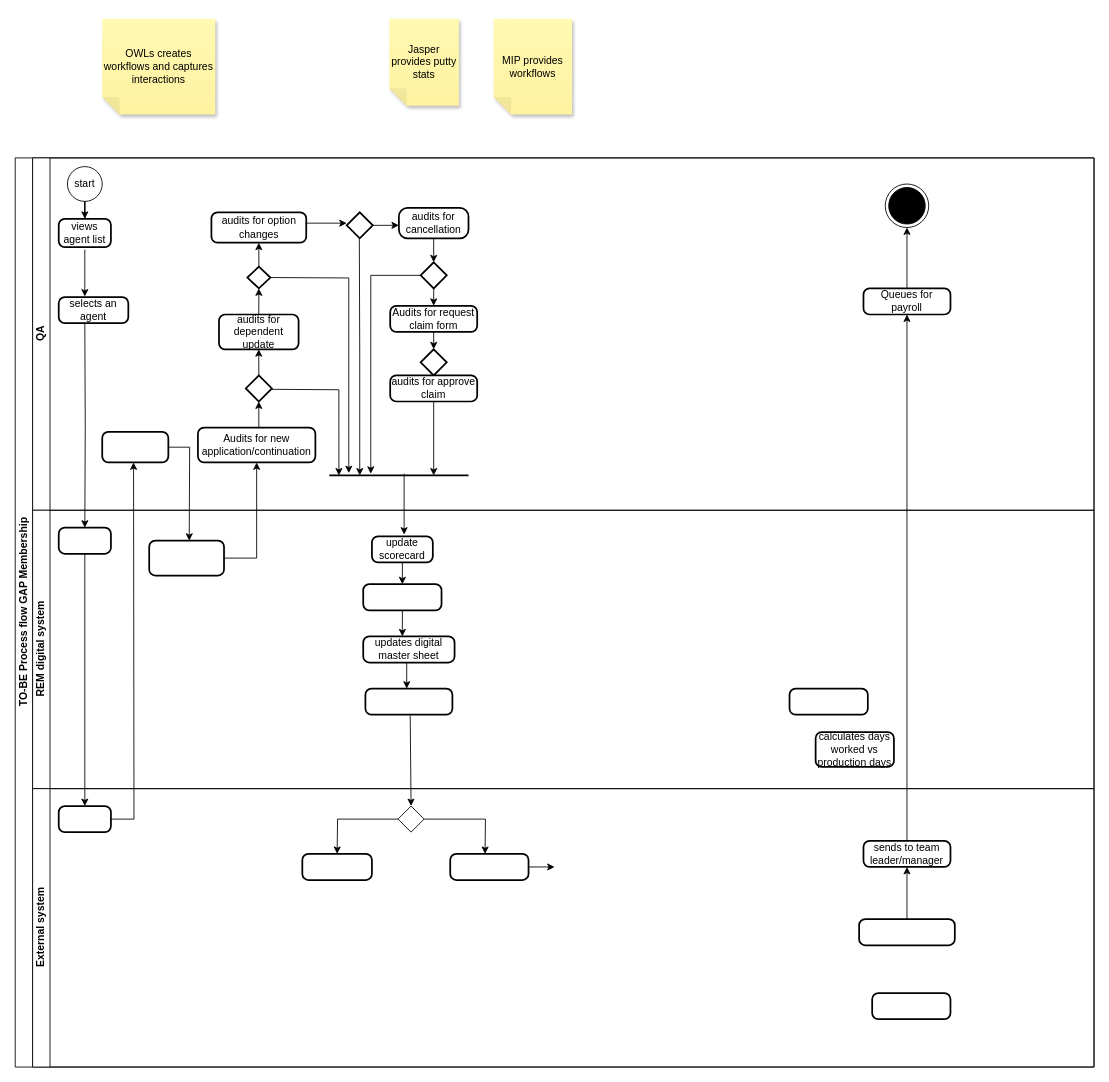
Image size: 1109x1082. Some labels were removed from this diagram. Each missing label, with the centre of its shape:
"calculates agent scores" goes at pixel 402 597.
"Calculates QA vs target" goes at pixel 828 701.
"calculates stats vs target" goes at pixel 911 1006.
"calculates the REM amount" goes at pixel 906 932.
"captures general information" goes at pixel 186 557.
"extracts workflow and putty stats" goes at pixel 408 701.
"go through work flow" goes at pixel 135 447.
"provide putty stats" goes at pixel 336 866.
"provides workflow" goes at pixel 84 819.
"provides workflow stats" goes at pixel 489 866.
"retrieves workflow" goes at pixel 84 540.
